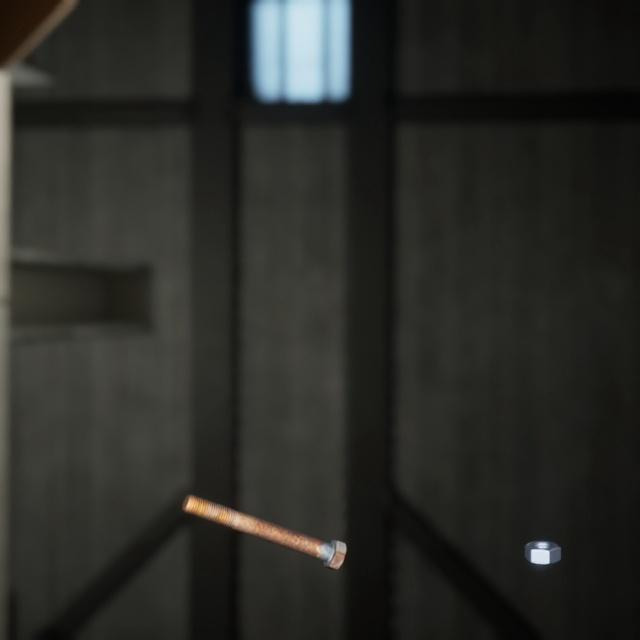bolt: (178, 467, 350, 552)
nut: (520, 513, 565, 546)
